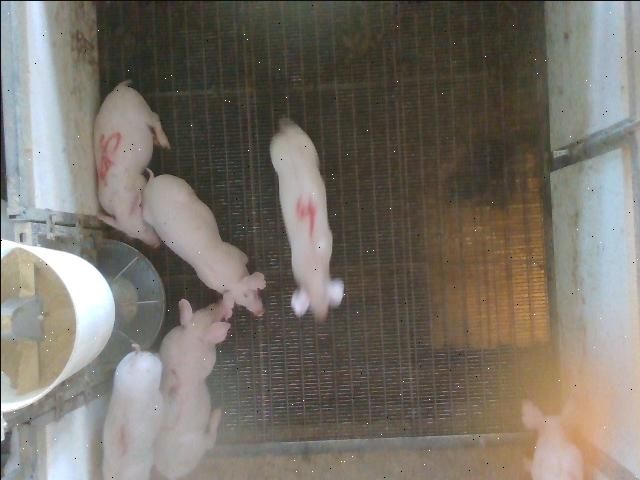pig-1: (101, 345, 162, 479)
pig-3: (152, 300, 229, 478)
pig-4: (269, 118, 342, 321)
pig-5: (94, 80, 169, 246)
